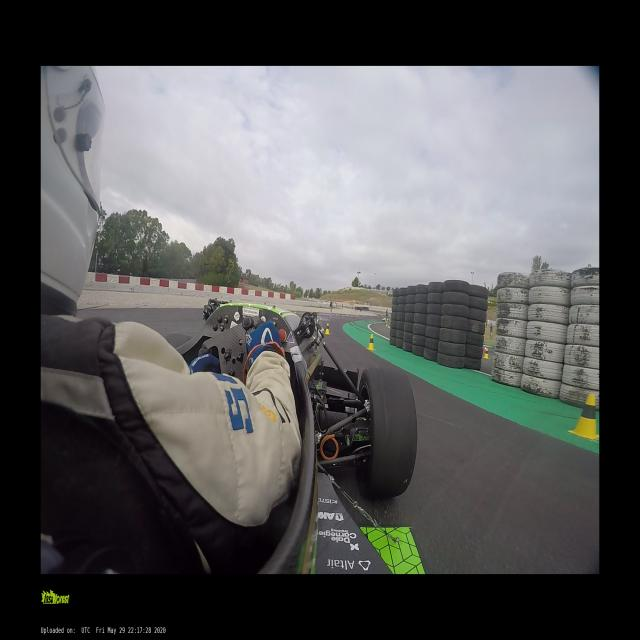orange_cone: (484, 345, 486, 351)
yellow_cone: (570, 394, 599, 441), (367, 334, 375, 351), (323, 323, 330, 335), (483, 348, 489, 358), (388, 323, 390, 328), (386, 322, 387, 326)
